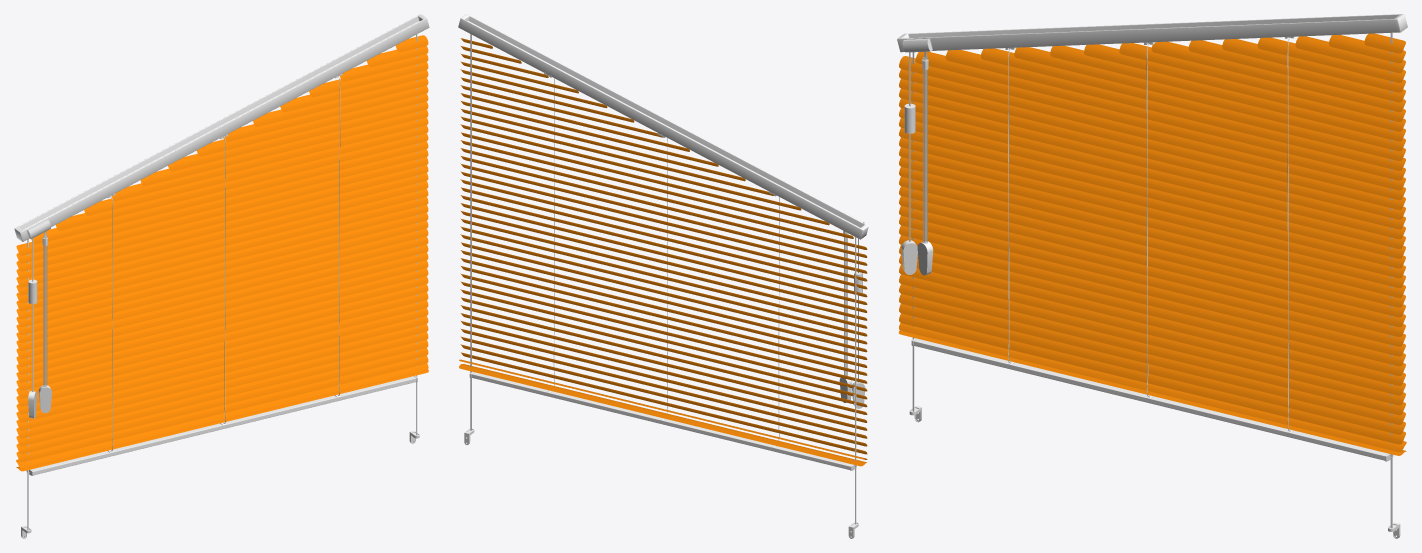
The model's file is Giebelfenster Jalousien.glb.
3 views of the same model, side by side, from view 1: azimuth 30°, elevation 25°; view 2: azimuth 150°, elevation 25°; view 3: azimuth 330°, elevation 25° (orthographic). The views are drawn at different scales.
Visible parts, largest first — view 1: Cube.036, jalousie.053, jalousie.005, jalousie.007, jalousie.002, jalousie.008, jalousie.001, jalousie.050, jalousie.051, jalousie.052, jalousie.018, jalousie.014 (+33 smaller); view 2: Cube.036, Cube.013, jalousie.004, jalousie.005, jalousie.013, jalousie.018, jalousie.050, jalousie.008, jalousie.015, jalousie.023, jalousie.051, jalousie.052 (+30 smaller); view 3: Cube.036, jalousie.053, jalousie.001, jalousie.002, jalousie.008, jalousie.005, jalousie.007, jalousie.013, jalousie.051, jalousie.015, jalousie.023, jalousie.052 (+33 smaller).
Boxes of the visible parts, x1,y1,x2,y2 form: Cube.036: (14,14,429,241); jalousie.053: (16,149,428,255); jalousie.005: (16,339,428,446); jalousie.007: (16,332,428,438); jalousie.002: (16,347,428,454); jalousie.008: (16,324,428,430); jalousie.001: (16,355,428,462); jalousie.050: (16,173,428,279); jalousie.051: (16,165,428,271); jalousie.052: (16,157,428,263); jalousie.018: (16,228,428,335); jalousie.014: (16,276,428,382); Cube.036: (458,14,868,239); Cube.013: (471,372,852,469); jalousie.004: (459,364,866,466); jalousie.005: (460,336,867,438); jalousie.013: (460,281,867,383); jalousie.018: (460,226,867,328); jalousie.050: (460,171,867,273); jalousie.008: (461,321,867,422); jalousie.015: (461,266,867,367); jalousie.023: (461,211,867,312); jalousie.051: (460,163,867,265); jalousie.052: (461,156,867,257); Cube.036: (897,14,1407,52); jalousie.053: (899,56,1405,190); jalousie.001: (899,313,1405,444); jalousie.002: (899,303,1405,434); jalousie.008: (899,274,1405,405); jalousie.005: (899,293,1405,424); jalousie.007: (899,284,1405,415); jalousie.013: (899,225,1405,356); jalousie.051: (899,78,1405,209); jalousie.015: (899,206,1405,336); jalousie.023: (899,137,1405,268); jalousie.052: (899,69,1405,200).
Size of the model in its own units: 0.999 by 0.9982 by 0.0495.
Materials: 3 (1 with a texture image).
